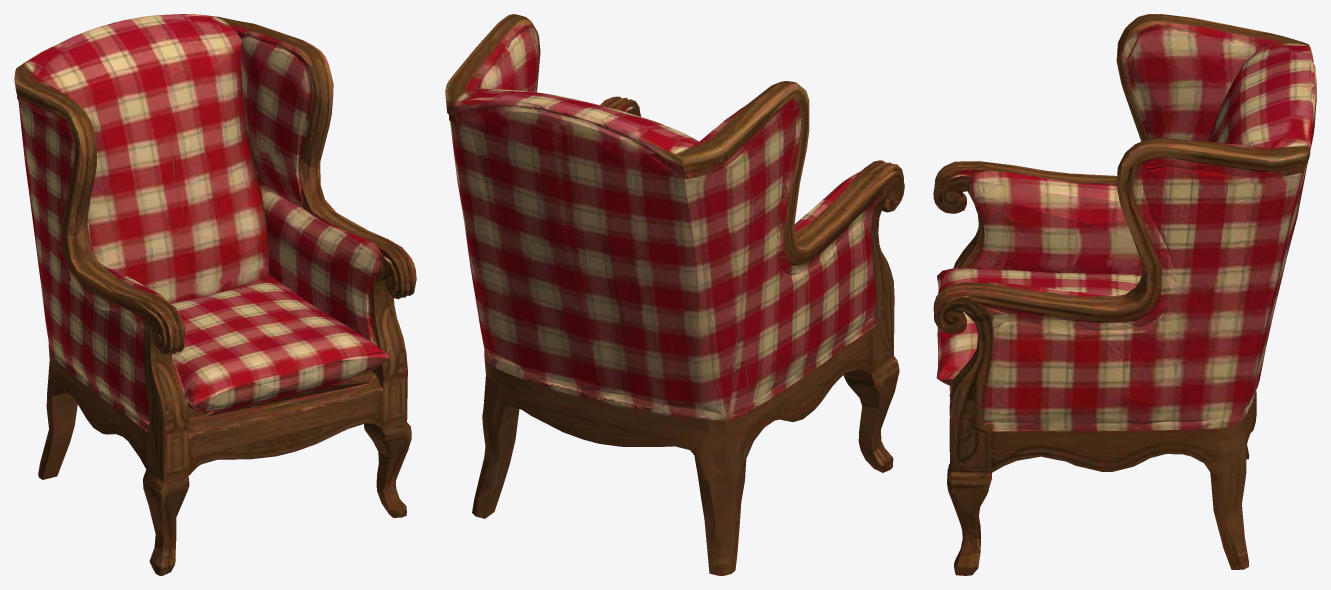
The model's file is armchair.glb.
The picture shows the model from 3 angles, left to right: view 1: azimuth 30°, elevation 25°; view 2: azimuth 150°, elevation 25°; view 3: azimuth 270°, elevation 25°; orthographic projection. The views are drawn at different scales.
Size of the model in its own units: 1.25 by 1.9 by 1.52.
Materials: 1 (1 with a texture image).
